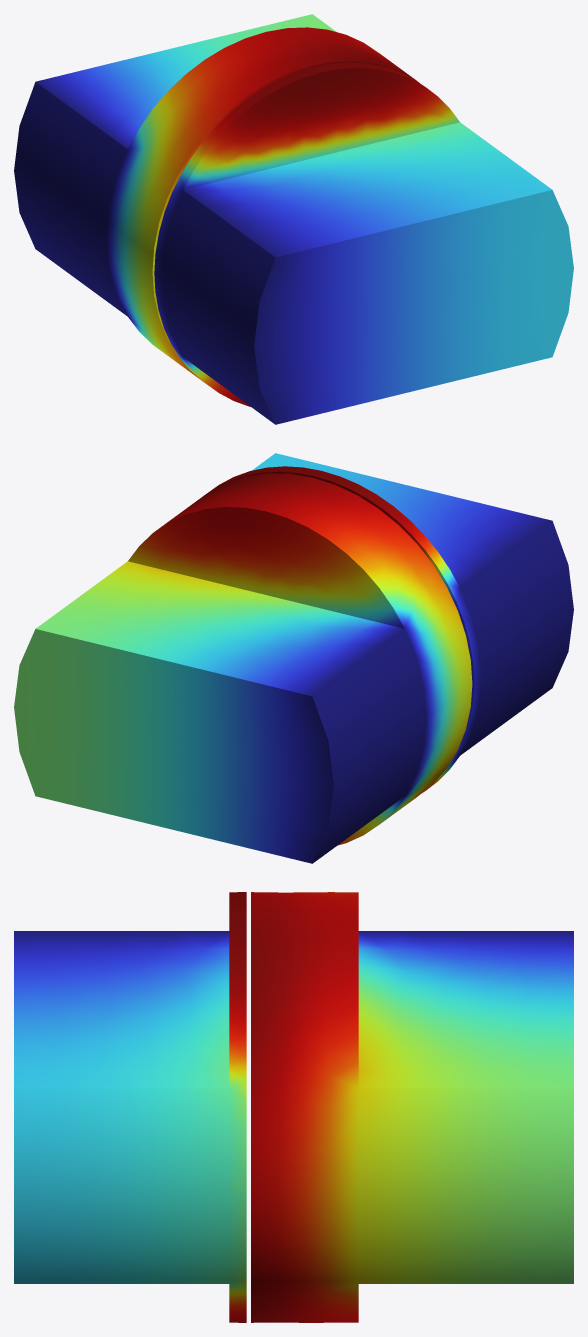
Rendered from PilaN2-H20_mh2-2.70_V-0.8.glb.
3 views of the same model, one above another, from view 1: azimuth 30°, elevation 25°; view 2: azimuth 150°, elevation 25°; view 3: azimuth 270°, elevation 25° (orthographic). The views are drawn at different scales.
Bounding box in the file's own units: 0.001 × 0.001 × 0.0013.
Materials: 2 (2 with a texture image).
